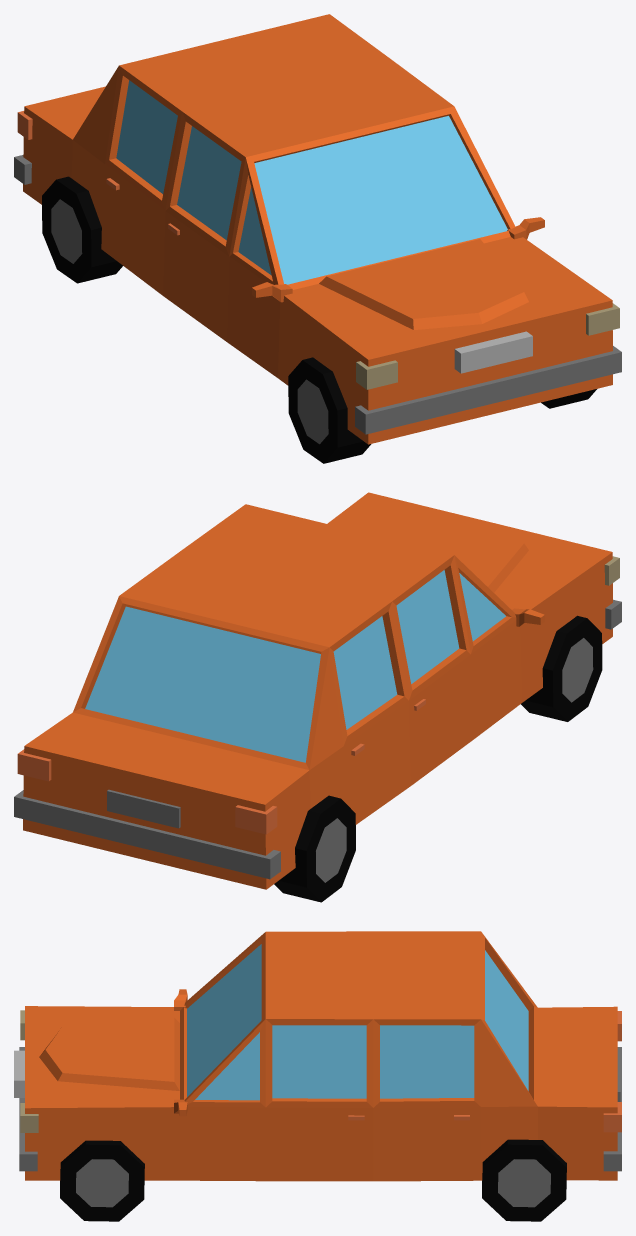
Rendered from car.fbx.
3 renders of one model, top to bottom at view 1: azimuth 30°, elevation 25°; view 2: azimuth 150°, elevation 25°; view 3: azimuth 270°, elevation 25°, orthographic. The views are drawn at different scales.
Parts seen in each view (by area): view 1: Car; view 2: Car; view 3: Car.
Boxes of the visible parts, left/top/right/bottom form: Car: left=14, top=14, right=621, bottom=463; Car: left=14, top=492, right=621, bottom=902; Car: left=14, top=931, right=621, bottom=1221.
Bounding box in the file's own units: 133 × 98.28 × 284.
